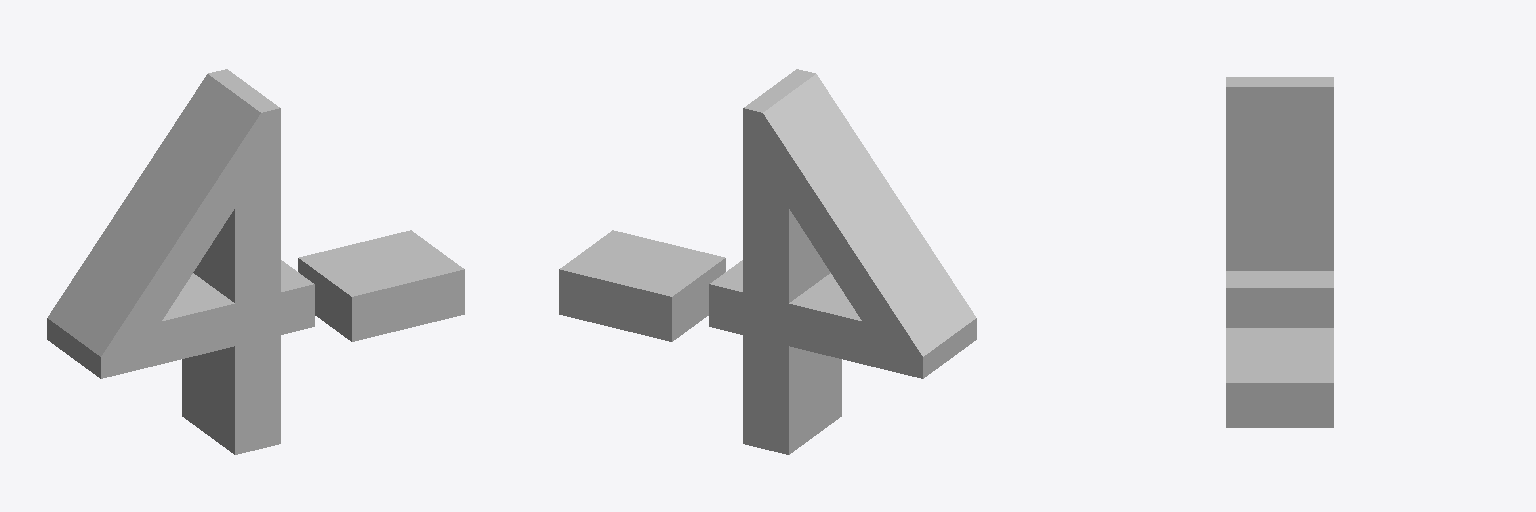
Rendered from four.obj.
3 renders of one model, left to right at view 1: azimuth 30°, elevation 25°; view 2: azimuth 150°, elevation 25°; view 3: azimuth 270°, elevation 25°, orthographic.
Visible parts, largest first — view 1: Blue_Team__Text; view 2: Blue_Team__Text; view 3: Blue_Team__Text.
Boxes of the visible parts, x1,y1,x2,y2 form: Blue_Team__Text: [47, 69, 464, 454]; Blue_Team__Text: [559, 69, 976, 454]; Blue_Team__Text: [1226, 77, 1333, 427].
Size of the model in its own units: 0.7832 by 0.691 by 0.2.